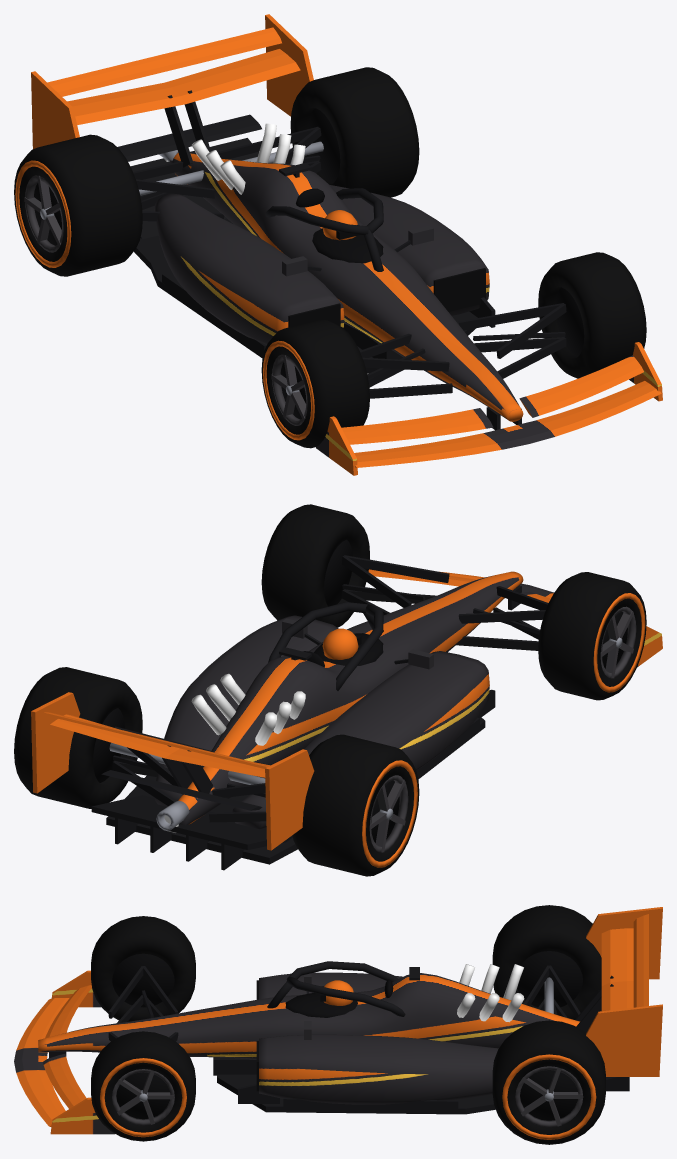
The model's file is volcano_a.fbx.
The picture shows the model from 3 angles, top to bottom: view 1: azimuth 30°, elevation 25°; view 2: azimuth 150°, elevation 25°; view 3: azimuth 270°, elevation 25°; orthographic projection. The views are drawn at different scales.
Parts seen in each view (by area): view 1: Body, Trim, Wheel_RL, Wheel_RR, Wheel_FL, Wheel_FR, Acc; view 2: Body, Trim, Wheel_RL, Wheel_FL, Wheel_RR, Wheel_FR, Acc; view 3: Body, Trim, Wheel_RR, Wheel_FR, Wheel_RL, Wheel_FL, Acc.
Boxes of the visible parts, <box> form: Body: <box>31,14,662,475</box>; Trim: <box>117,90,566,430</box>; Wheel_RL: <box>14,134,142,276</box>; Wheel_RR: <box>290,67,419,197</box>; Wheel_FL: <box>261,319,369,448</box>; Wheel_FR: <box>538,252,646,378</box>; Acc: <box>191,123,305,194</box>; Body: <box>31,569,662,850</box>; Trim: <box>91,555,548,870</box>; Wheel_RL: <box>292,734,419,876</box>; Wheel_FL: <box>538,572,646,700</box>; Wheel_RR: <box>14,667,142,808</box>; Wheel_FR: <box>261,504,369,627</box>; Acc: <box>191,673,305,745</box>; Body: <box>14,907,662,1134</box>; Trim: <box>49,961,629,1114</box>; Wheel_RR: <box>492,1020,605,1144</box>; Wheel_FR: <box>91,1031,195,1141</box>; Wheel_RL: <box>492,905,601,1019</box>; Wheel_FL: <box>91,916,195,1021</box>; Acc: <box>457,964,524,1022</box>.
Bounding box in the file's own units: 9.81 × 3.78 × 18.55.
4 materials, 1 textured.
